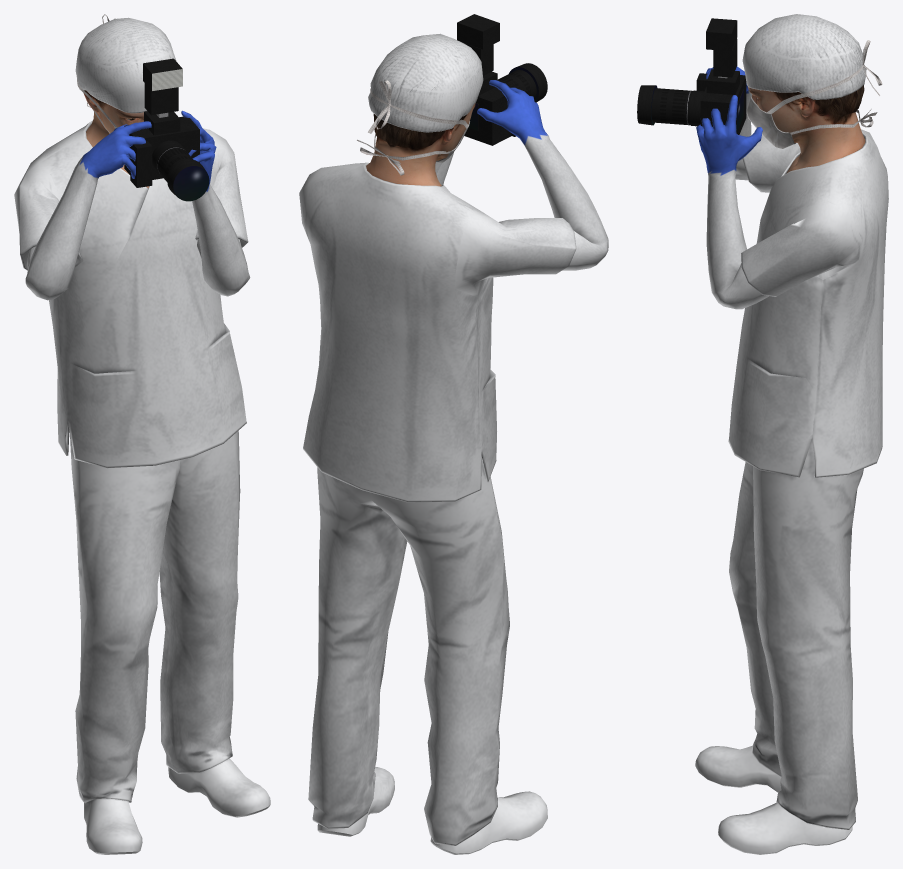
File: ForensicExaminer_Photographing.obj
3 renders of one model, left to right at view 1: azimuth 30°, elevation 25°; view 2: azimuth 150°, elevation 25°; view 3: azimuth 270°, elevation 25°, orthographic. The views are drawn at different scales.
Visible parts, largest first — view 1: Body, Props, Protection, Head; view 2: Body, Protection, Props, Head; view 3: Body, Protection, Props, Head.
Boxes of the visible parts, left/top/right/bottom form: Body: left=14, top=110, right=270, bottom=854; Props: left=124, top=58, right=209, bottom=201; Protection: left=75, top=14, right=176, bottom=133; Head: left=83, top=90, right=148, bottom=188; Body: left=299, top=80, right=608, bottom=854; Protection: left=357, top=33, right=483, bottom=175; Props: left=457, top=14, right=547, bottom=145; Head: left=366, top=103, right=475, bottom=186; Body: left=695, top=66, right=888, bottom=854; Protection: left=742, top=14, right=882, bottom=148; Props: left=637, top=18, right=746, bottom=134; Head: left=748, top=85, right=865, bottom=173.
Bounding box in the file's own units: 0.601 × 1.79 × 0.5228.
Materials: 4 (4 with a texture image).
